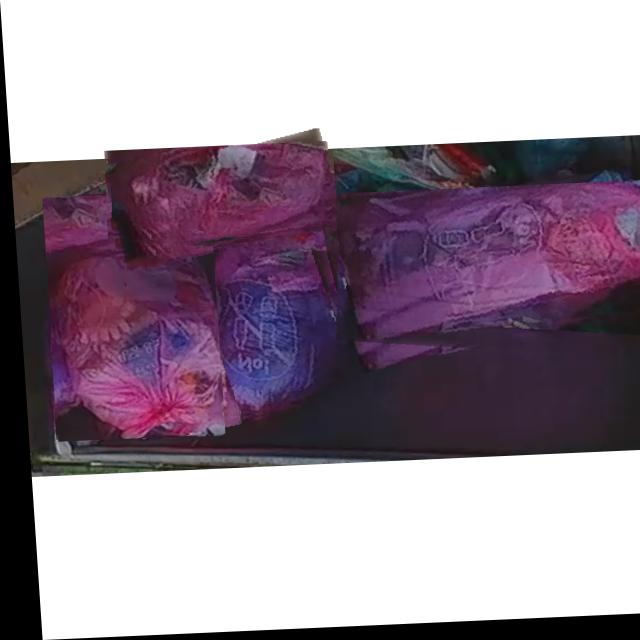other_trashbag: (333, 187, 640, 352), (47, 195, 216, 437), (207, 229, 335, 418), (102, 145, 325, 247)
